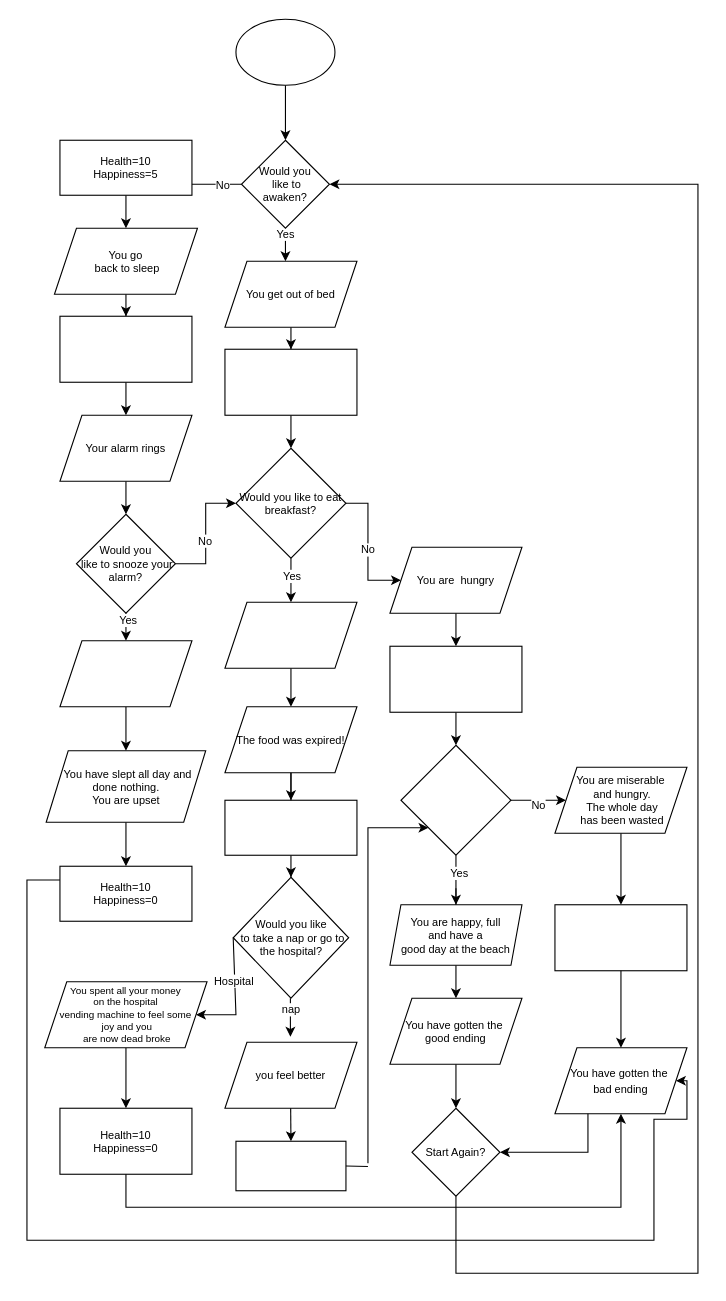
Some shapes in this 726 by 1301 pixel diagram are drawn without their labels. Here are the shapes that lost their labels. From the top down, the box of each, then its label:
(235, 18, 335, 85): Start
(59, 315, 192, 382): Health=10 Happiness=10
(224, 348, 357, 415): Health=8 Happiness=4
(224, 601, 357, 668): You are full
(59, 640, 192, 707): It has been 10 hours
(389, 645, 522, 712): Health=7 Happiness=6
(400, 744, 511, 855): Would you like to go to the beach to get food?
(224, 799, 357, 855): Health=5 Happiness=2
(554, 904, 687, 971): Health=0 Happiness=0
(235, 1140, 346, 1191): Health=8 Happiness=10
